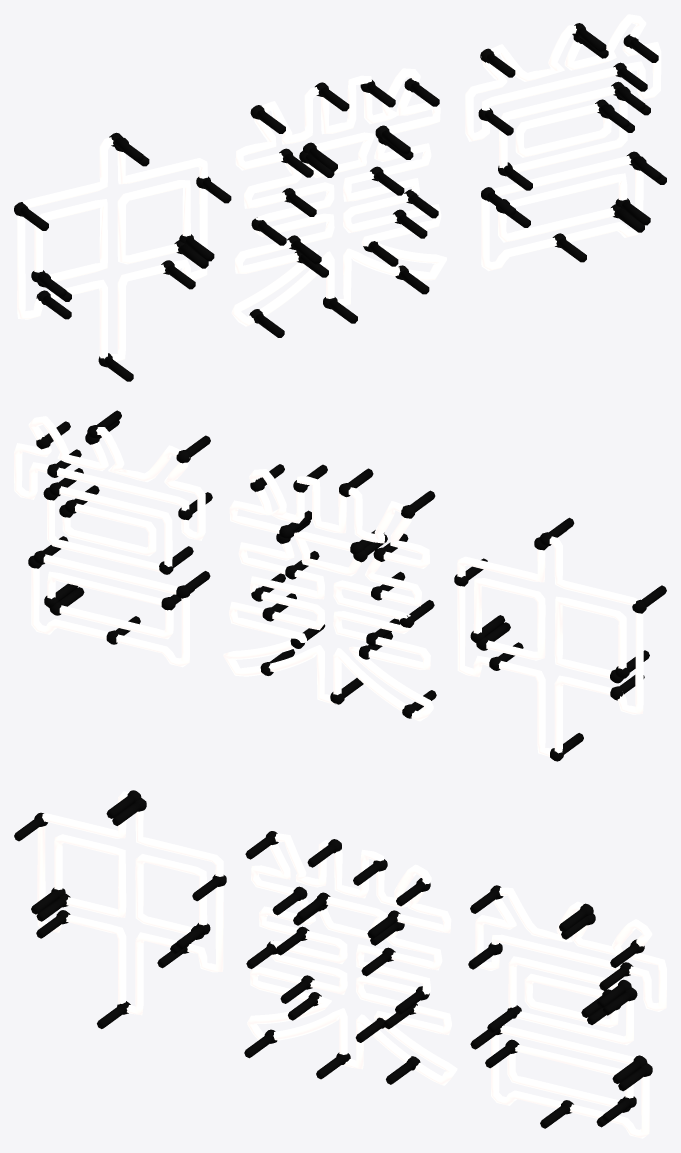
The model's file is neon_eigyoutyuu.fbx.
3 views of the same model, one above another, from view 1: azimuth 30°, elevation 25°; view 2: azimuth 150°, elevation 25°; view 3: azimuth 330°, elevation 25° (orthographic). The views are drawn at different scales.
Parts seen in each view (by area): view 1: NeonEnglish; view 2: NeonEnglish; view 3: NeonEnglish.
Boxes of the visible parts, <box> form: NeonEnglish: <box>14,14,666,381</box>; NeonEnglish: <box>14,410,666,761</box>; NeonEnglish: <box>14,790,666,1138</box>.
Bounding box in the file's own units: 293 × 99.86 × 21.29.
